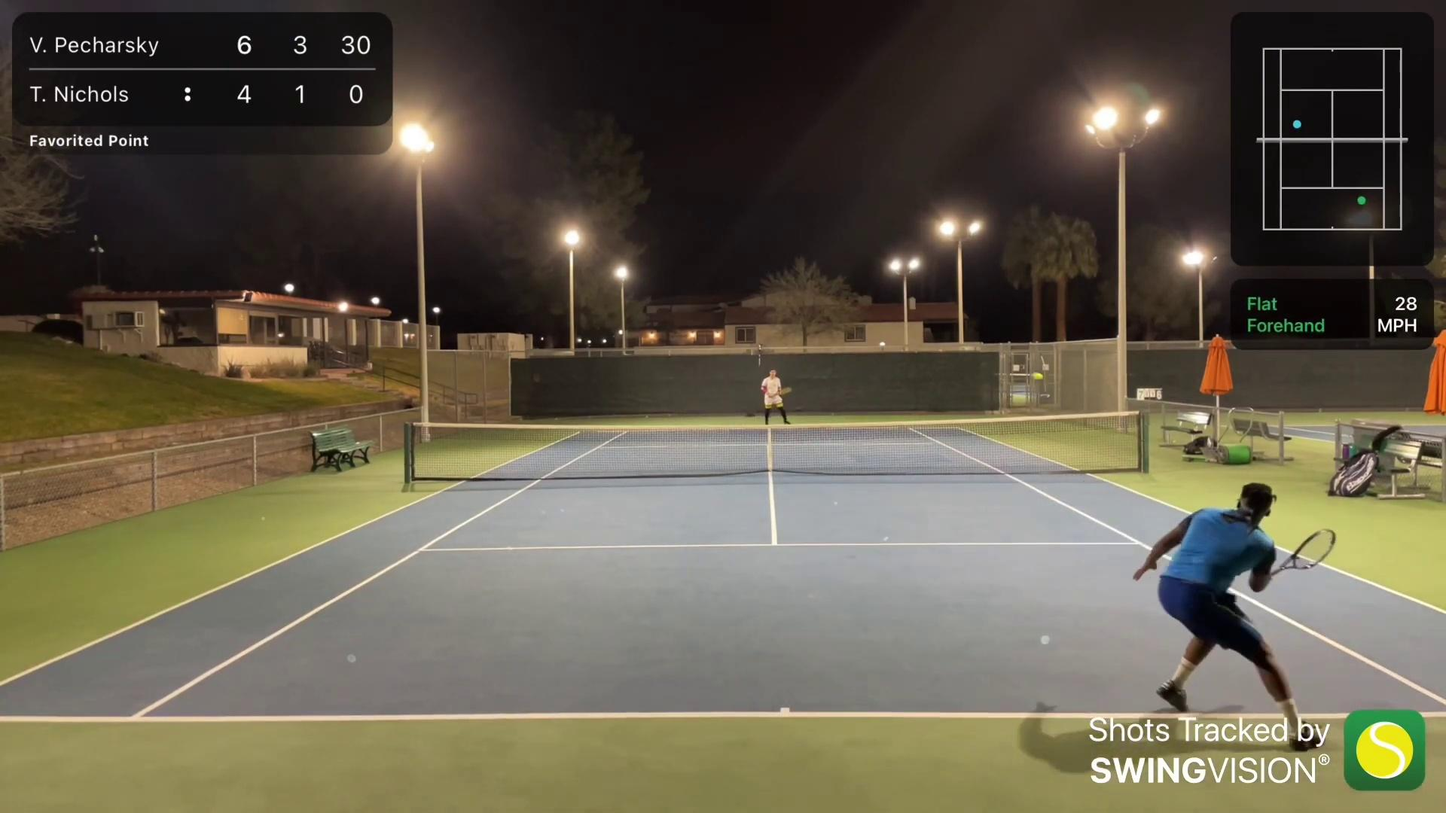ball: (1031, 371, 1039, 378)
